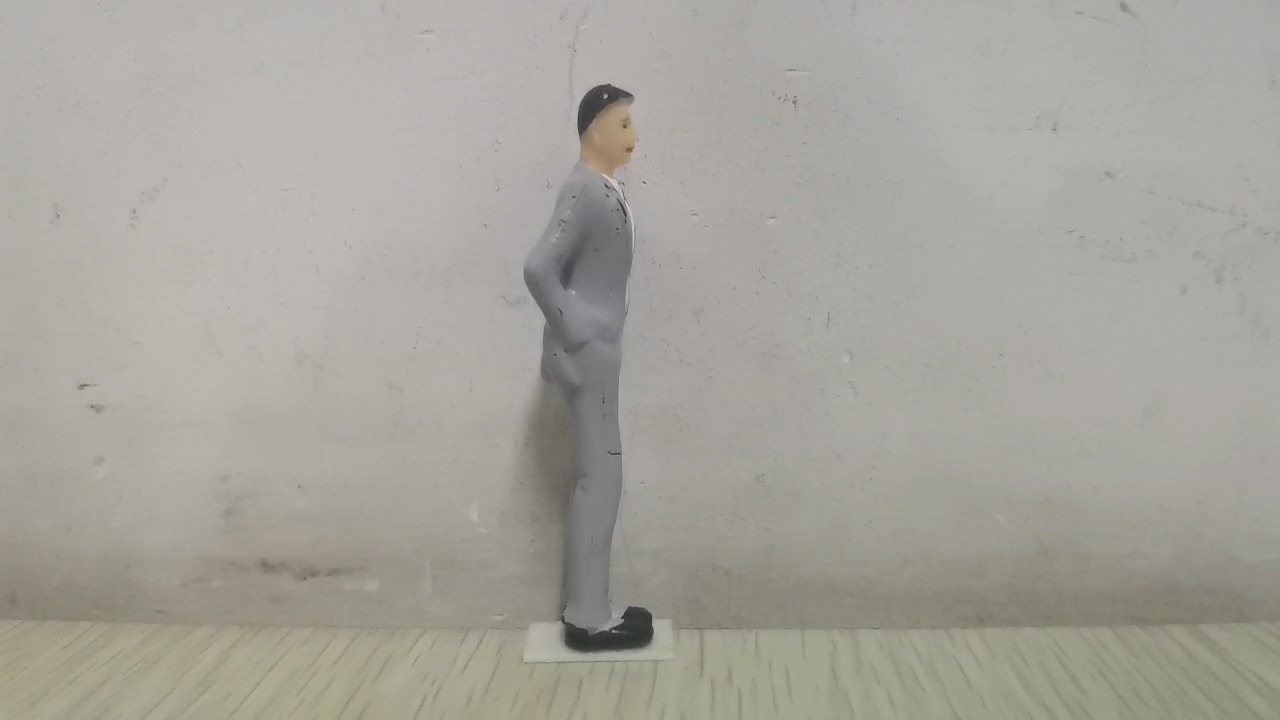person: (519, 82, 657, 653)
